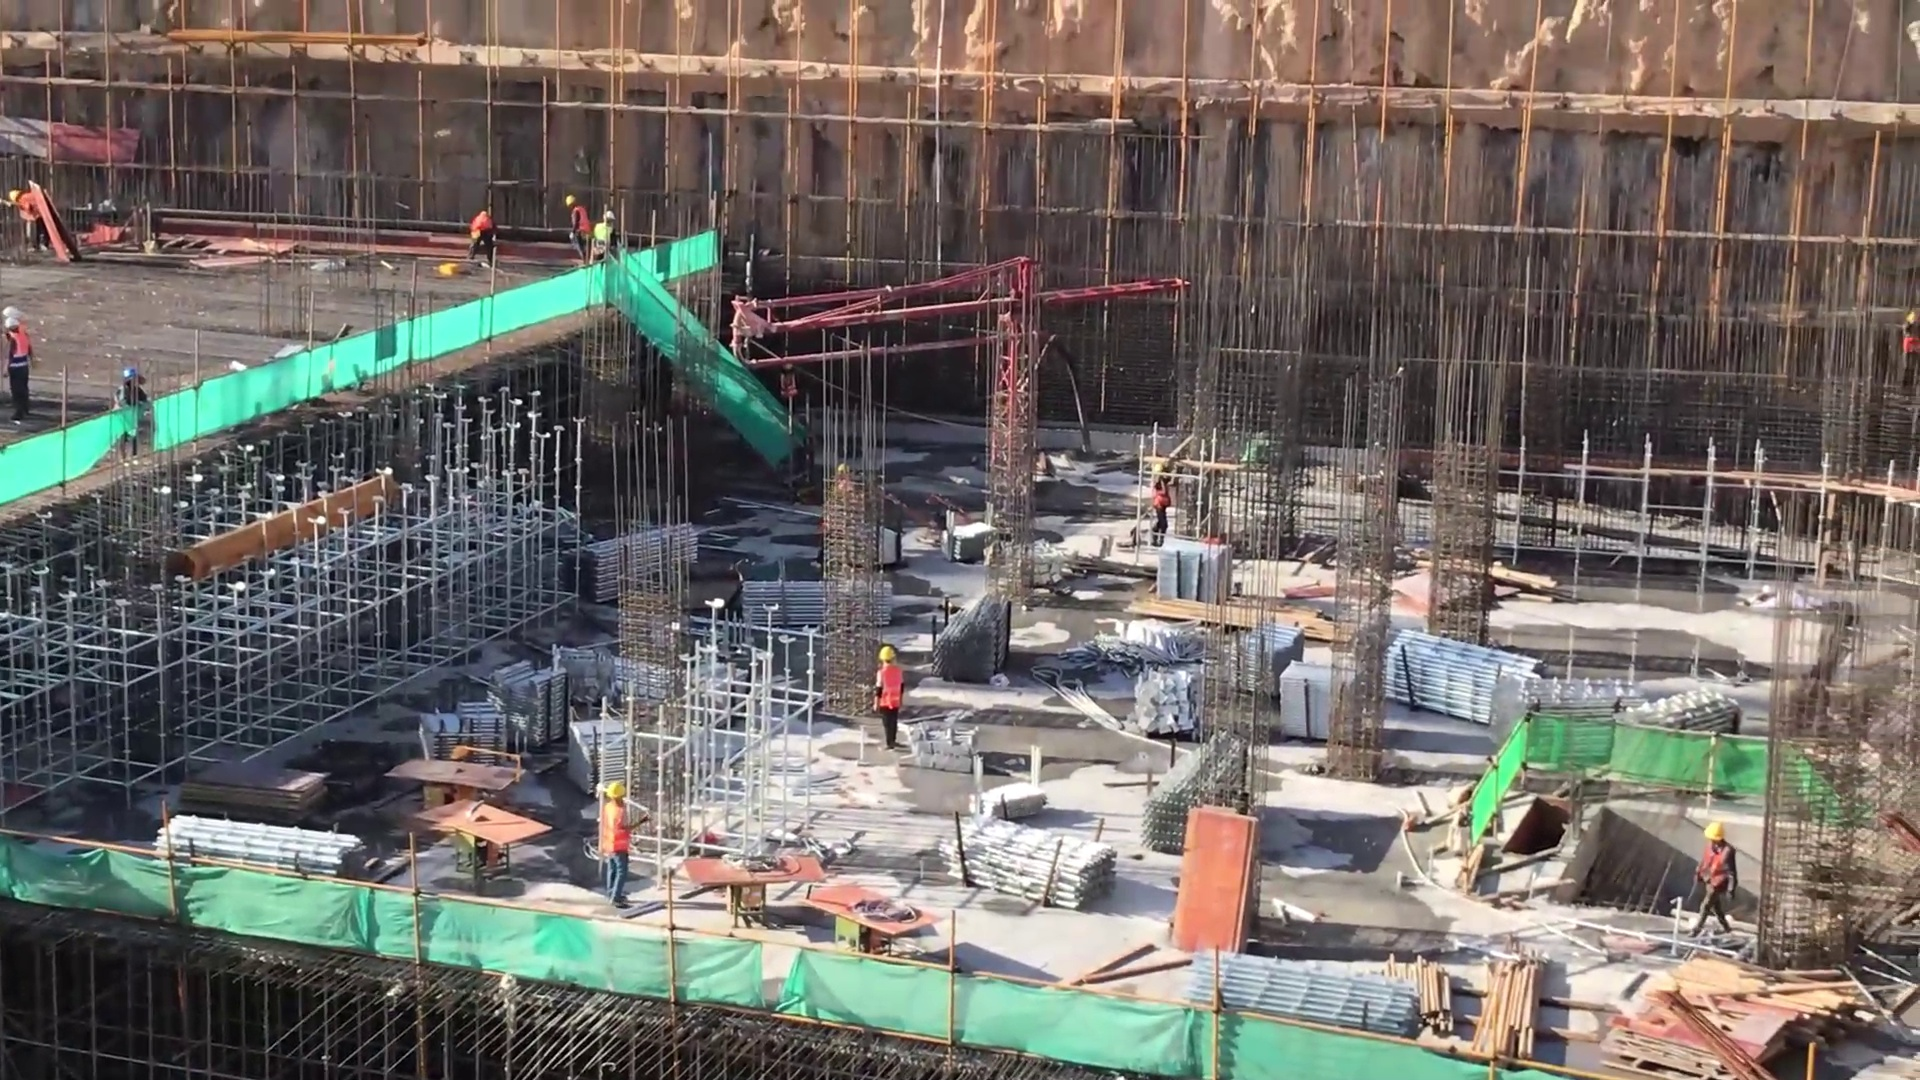board: (673, 830, 925, 955), (392, 753, 551, 870), (1156, 793, 1275, 949), (1608, 970, 1777, 1080)
helmet: (594, 774, 631, 806), (4, 309, 30, 343), (121, 367, 145, 394), (876, 639, 899, 666), (1703, 816, 1729, 838), (5, 183, 22, 207), (561, 192, 577, 211), (595, 207, 613, 223), (1156, 461, 1169, 476)
person: (1694, 815, 1738, 937), (600, 773, 635, 902), (1, 317, 37, 429), (873, 641, 907, 752), (9, 190, 50, 250), (1147, 461, 1174, 550), (461, 208, 500, 268), (562, 193, 595, 261), (107, 365, 148, 406), (593, 207, 622, 247)
scaffold: (1181, 942, 1408, 1035), (943, 809, 1111, 924), (1389, 629, 1526, 744), (149, 801, 328, 887), (571, 518, 706, 602), (1547, 663, 1708, 720), (723, 552, 825, 633), (925, 594, 1010, 687), (504, 648, 574, 737), (1276, 650, 1341, 740), (947, 503, 1005, 564)
vest: (599, 805, 630, 861), (876, 661, 906, 716), (1703, 846, 1731, 898), (7, 326, 28, 369), (1152, 481, 1171, 511)
wood: (1393, 922, 1564, 1061), (1122, 572, 1373, 653)
